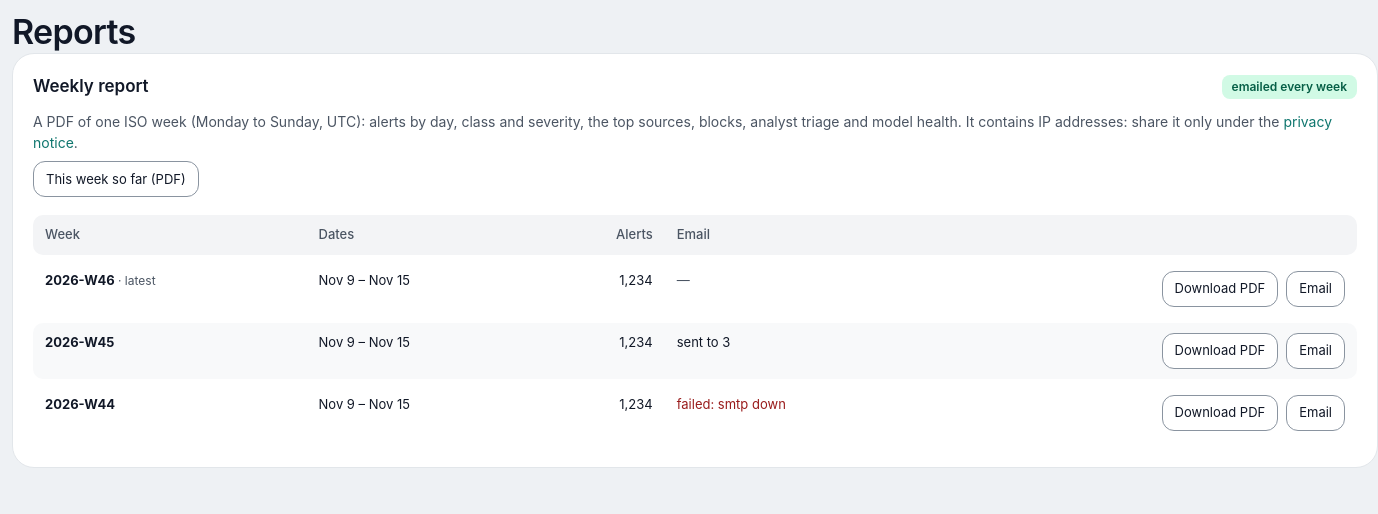
Test case: Reports page › maps a 409 to a friendly message
Check: the text "2026-W45" is shown, box [45, 334, 114, 350]
Click the button with aria-label "Email the report for 2026-W45" at (1316, 351), box [1286, 333, 1345, 369]
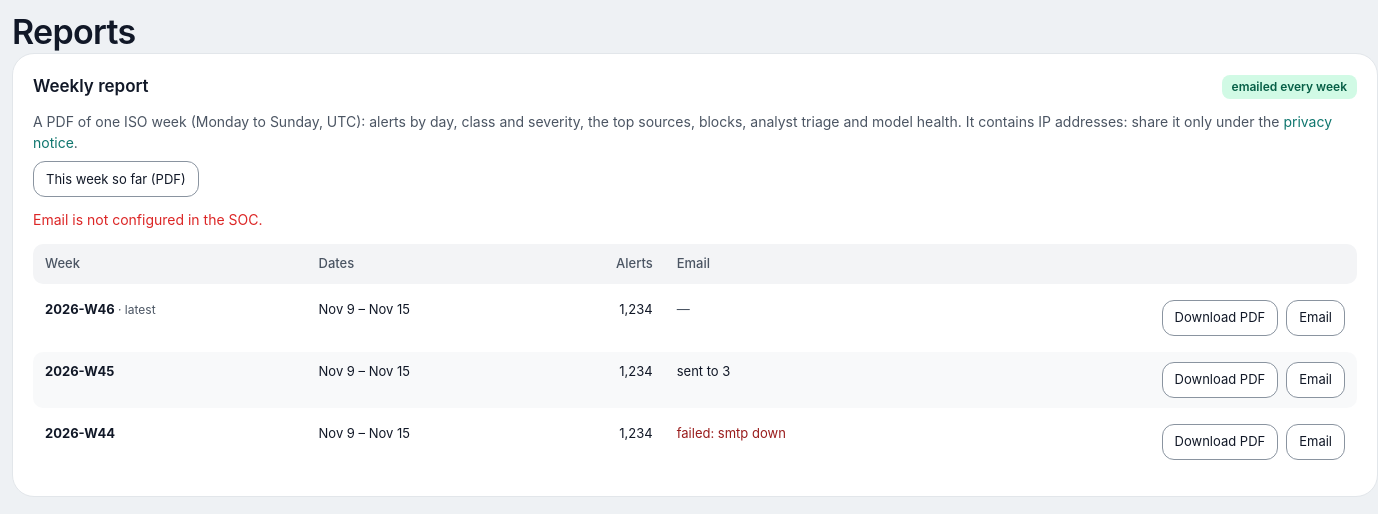
Check: the text "Email is not configured in the SOC." is shown, box [33, 211, 262, 228]
